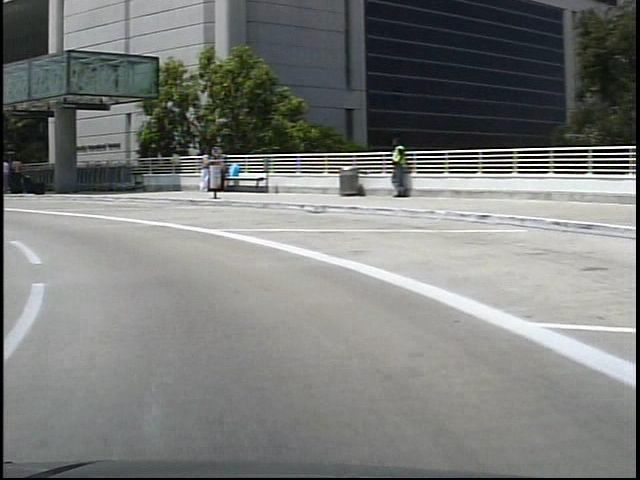person: (380, 144, 405, 210), (6, 154, 19, 194)
